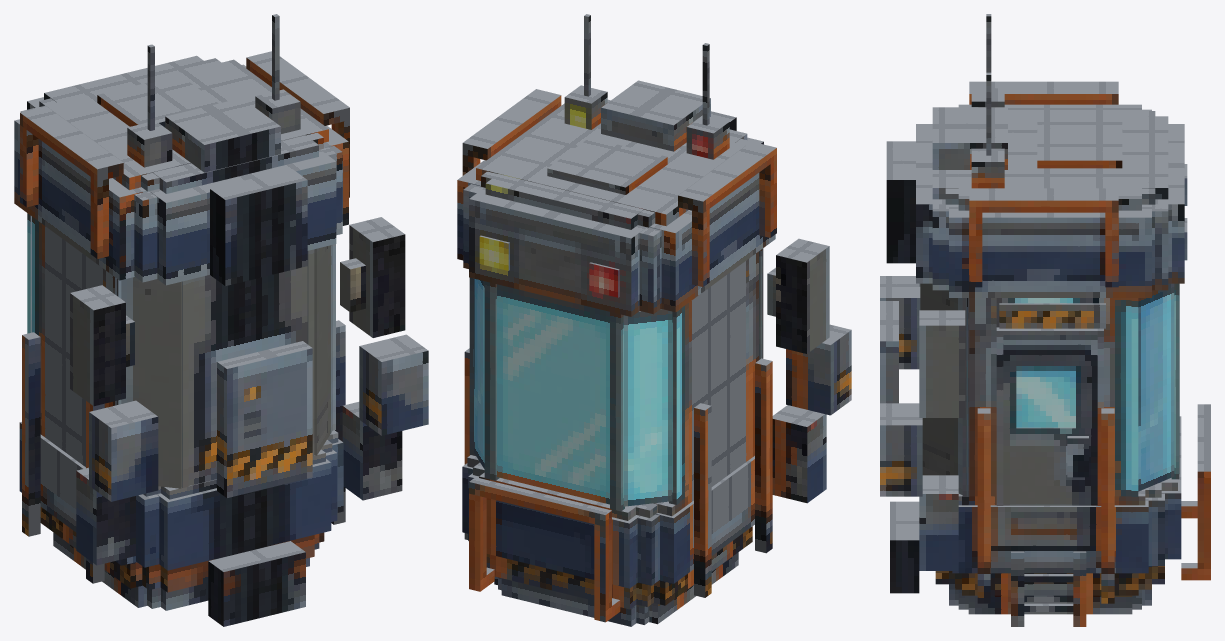
Rendered from elevator_cabin.glb.
The picture shows the model from 3 angles, left to right: view 1: azimuth 30°, elevation 25°; view 2: azimuth 150°, elevation 25°; view 3: azimuth 270°, elevation 25°; orthographic projection. The views are drawn at different scales.
Visible parts, largest first — view 1: control_box, wall_back, lower_b, clamp_upper, wall_left, chamfer_rb, upper_a, upper_b, roofcap_a, clamp_lower, pod_p, pod_n (+33 smaller); view 2: glass_front, wall_left, upper_b, glass_rf, roofcap_a, upper_a, lower_b, lower_a, wheel_n, clamp_top, thruster_n, pod_n (+31 smaller); view 3: upper_a, lower_a, roofcap_a, glass_lf, door_low, upper_b, wheel_p, wall_right_front, wall_right_back, roof_hatch, pod_p, clamp_top (+41 smaller).
Part boxes in pixels (x1,y1,x2,y2): control_box: (217,341,312,497); wall_back: (188,266,307,485); lower_b: (157,459,331,570); clamp_upper: (210,169,307,285); wall_left: (32,216,114,457); chamfer_rb: (115,277,181,488); upper_a: (14,64,348,280); upper_b: (27,97,336,285); roofcap_a: (34,59,328,189); clamp_lower: (208,541,305,626); pod_p: (359,334,428,435); pod_n: (89,400,158,501); glass_front: (497,284,609,504); wall_left: (680,251,758,501); upper_b: (469,137,763,316); glass_rf: (623,309,672,506); roofcap_a: (476,103,745,226); upper_a: (457,160,775,312); lower_b: (486,498,639,588); lower_a: (462,456,754,583); wheel_n: (776,238,829,353); clamp_top: (601,80,710,151); thruster_n: (772,405,826,503); pod_n: (786,324,851,415); upper_a: (949,109,1151,297); lower_a: (952,497,1148,573); roofcap_a: (958,104,1141,210); glass_lf: (1138,283,1179,491); door_low: (1003,427,1097,505); upper_b: (916,124,1184,283); wheel_p: (919,310,965,417); wall_right_front: (1104,298,1131,496); wall_right_back: (969,298,996,496); roof_hatch: (1037,122,1122,168); pod_p: (880,403,922,496); clamp_top: (932,107,1007,169).
Size of the model in its own units: 3.38 by 5.58 by 3.16.
Materials: 2 (2 with a texture image).
